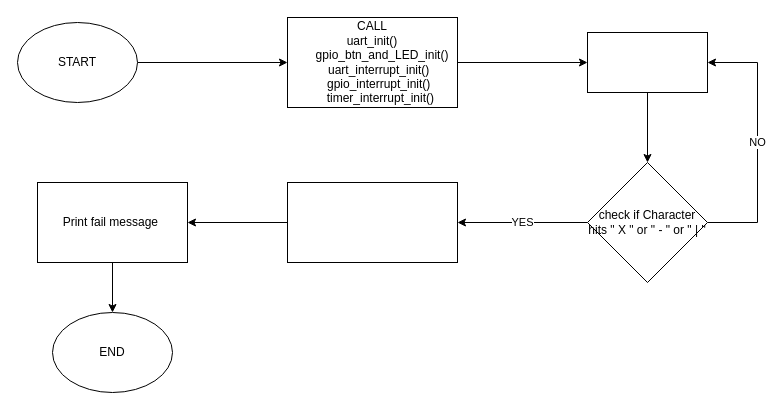
The diagram is 783 pixels wide and 410 high, and some of its shapes have lost their labels. The shapes that lost their labels are listed below. From the top down, each one's centre as x and y in pixels, then its label:
(x=647, y=62): call print_game()
(x=372, y=222): Call Timer_Handler_fail()
